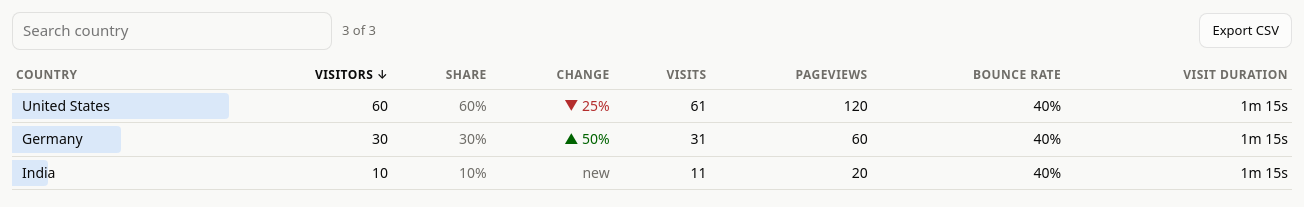
Test: search matches raw values and display names
Type "germ" into the search field at (172, 31), box [12,12,332,50]
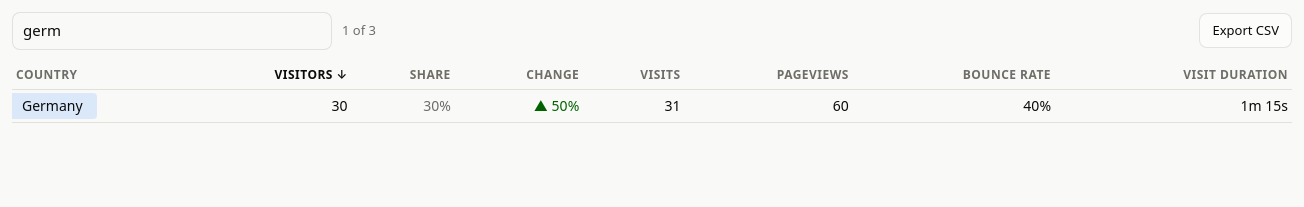
Now the text "1 of 3" is shown, box [342,22,376,40]
